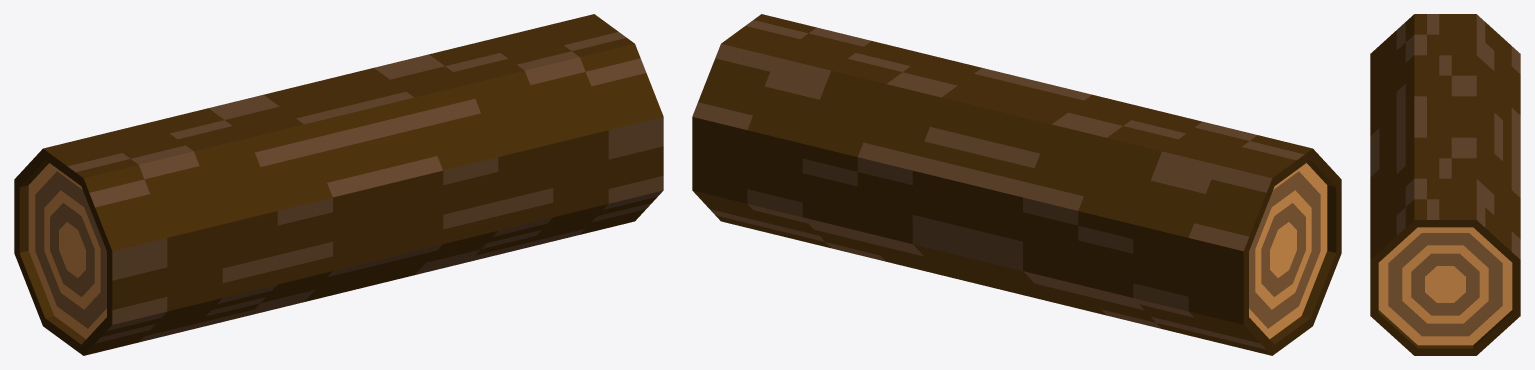
File: Wood_3m.fbx
The picture shows the model from 3 angles, left to right: view 1: azimuth 30°, elevation 25°; view 2: azimuth 150°, elevation 25°; view 3: azimuth 270°, elevation 25°; orthographic projection. The views are drawn at different scales.
Visible parts, largest first — view 1: Cylinder; view 2: Cylinder; view 3: Cylinder.
Boxes of the visible parts, bbox=[...] form: Cylinder: bbox=[14, 14, 663, 355]; Cylinder: bbox=[692, 14, 1341, 355]; Cylinder: bbox=[1370, 14, 1520, 355].
Size of the model in its own units: 600 by 185 by 185.
